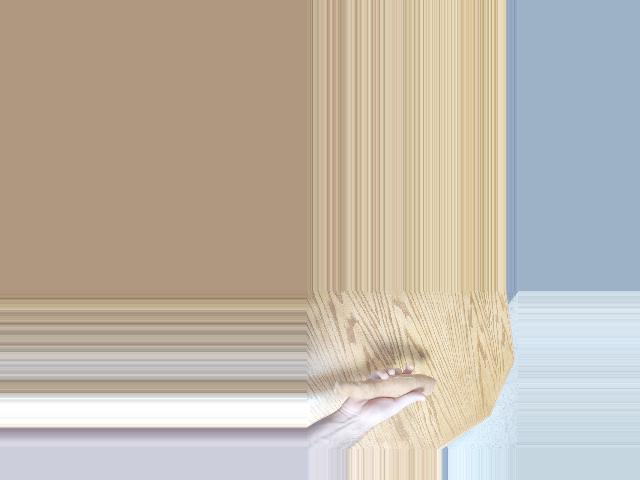sweet_potato: (330, 371, 444, 411)
